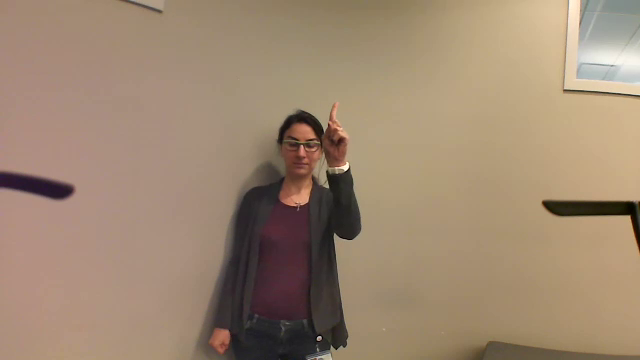up: (312, 97, 354, 164)
